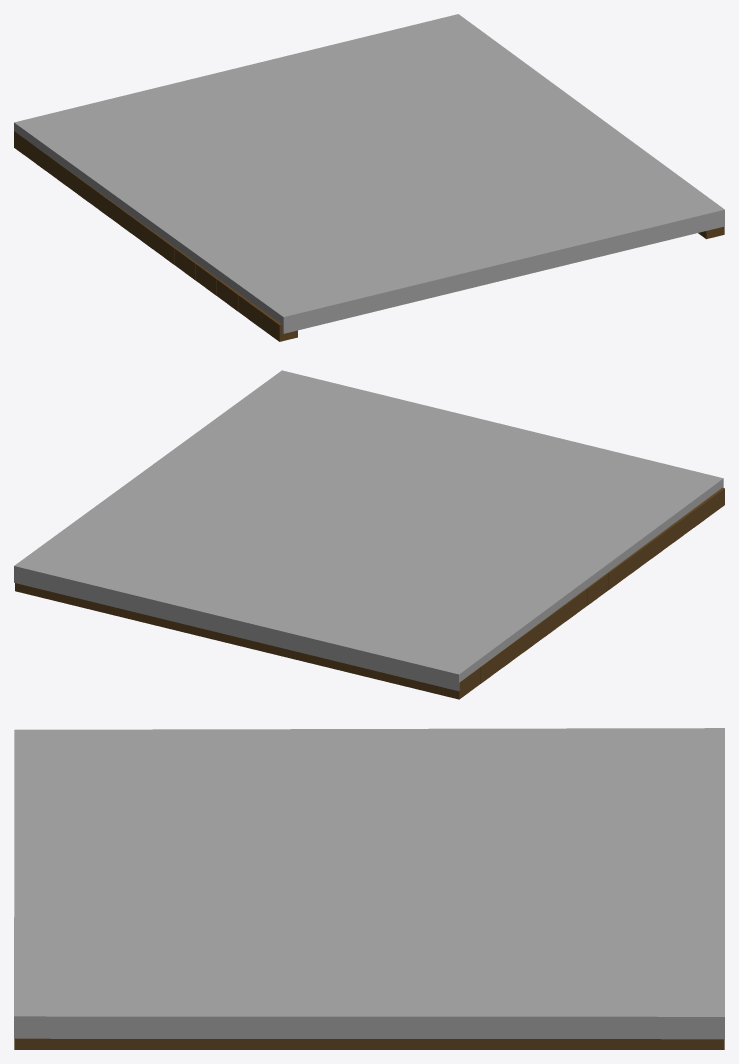
The model's file is Techo 1.fbx.
3 renders of one model, top to bottom at view 1: azimuth 30°, elevation 25°; view 2: azimuth 150°, elevation 25°; view 3: azimuth 270°, elevation 25°, orthographic. The views are drawn at different scales.
Parts seen in each view (by area): view 1: pCube138; view 2: pCube138; view 3: pCube138.
Part boxes in pixels (left/top/right/bottom): pCube138: left=14, top=14, right=724, bottom=341; pCube138: left=14, top=370, right=724, bottom=699; pCube138: left=14, top=728, right=724, bottom=1049.
Bounding box in the file's own units: 27.74 × 1.5 × 28.86.
